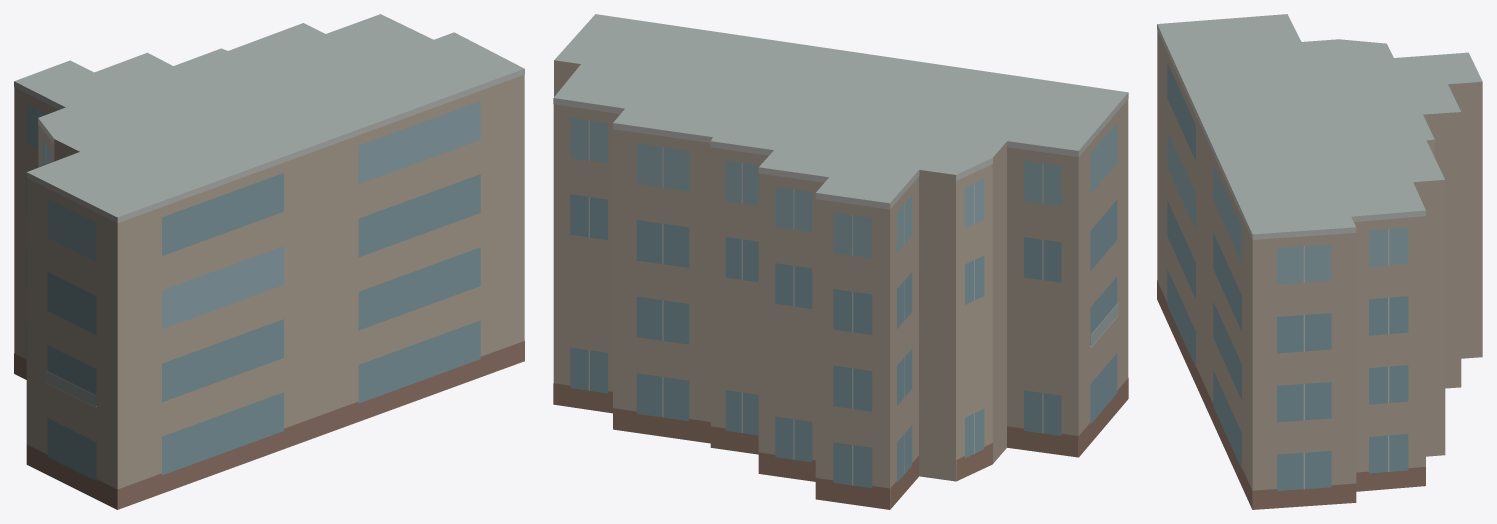
Rendered from survey-upis-32968949.glb.
3 views of the same model, side by side, from view 1: azimuth 30°, elevation 25°; view 2: azimuth 150°, elevation 25°; view 3: azimuth 270°, elevation 25° (orthographic). The views are drawn at different scales.
Visible parts, largest first — view 1: survey-upis-32968949.tmp; view 2: survey-upis-32968949.tmp; view 3: survey-upis-32968949.tmp.
Part boxes in pixels (x1,y1,x2,y2): survey-upis-32968949.tmp: (14,14,524,509); survey-upis-32968949.tmp: (553,14,1128,509); survey-upis-32968949.tmp: (1157,14,1482,509).
Size of the model in its own units: 20.78 by 12.1 by 12.97.
